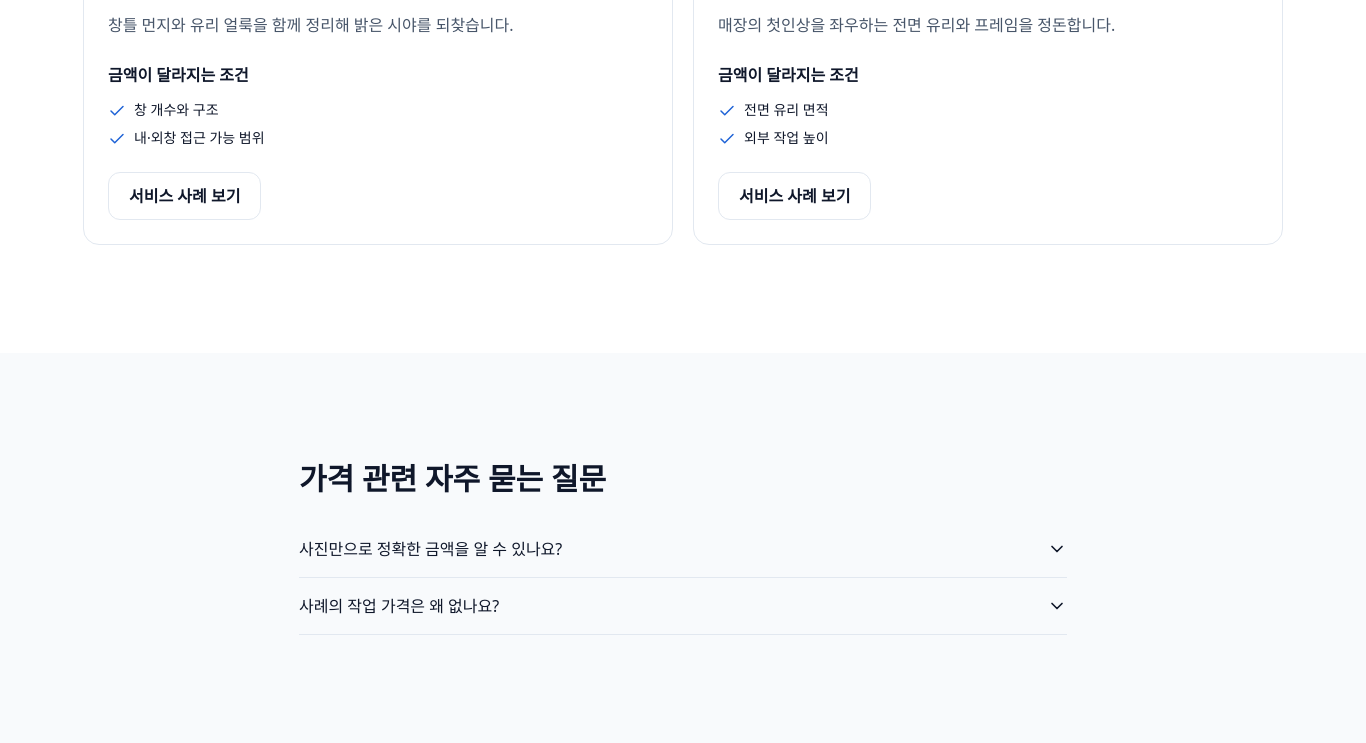
Scenario: supporting content and accessibility › presents four vertical-friendly pricing cards and expandable FAQ
(page scrolled)
Click the button "사진만으로 정확한 금액을 알 수 있나요?" at (431, 549), box [299,521,1067,577]
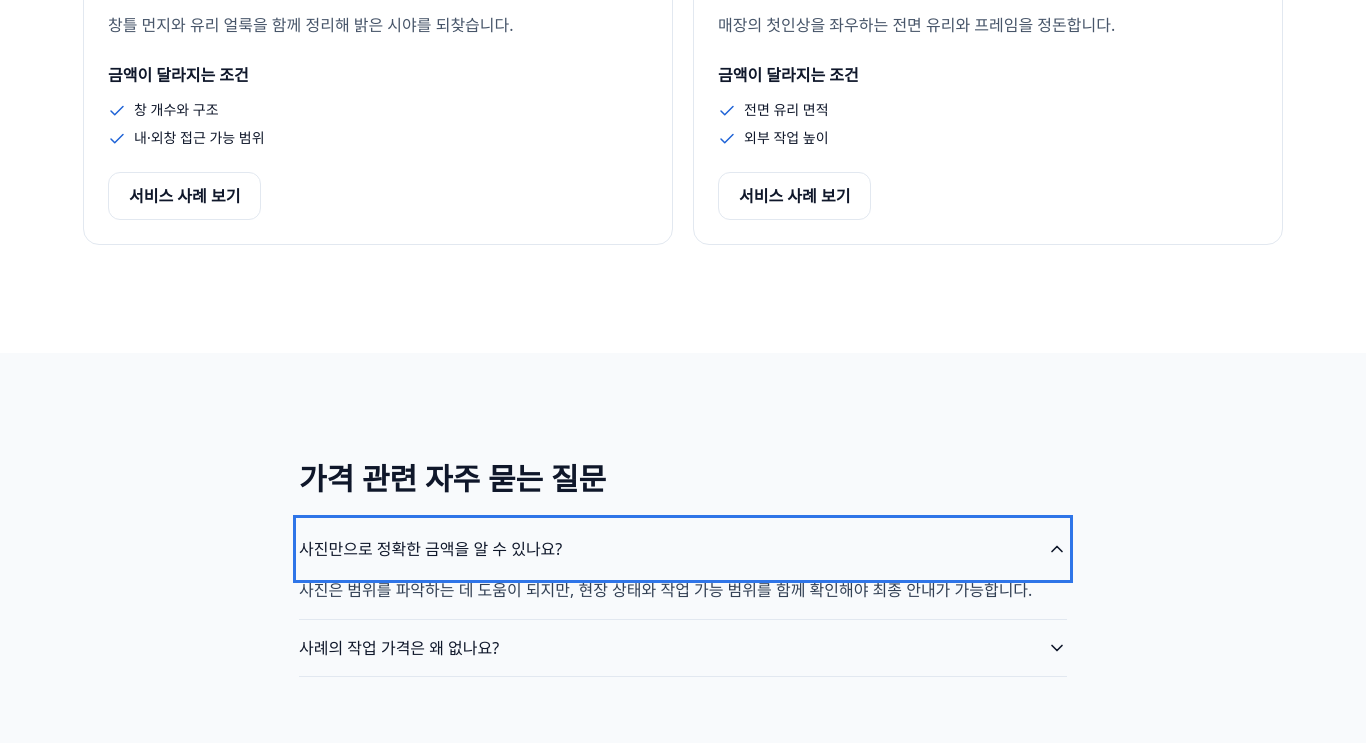
Now the text "현장 상태와 작업 가능 범위" is shown, box [299,579,1032,601]
